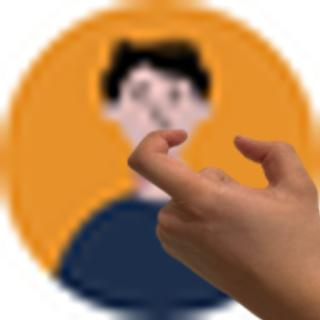HATE: (115, 121, 320, 311)
